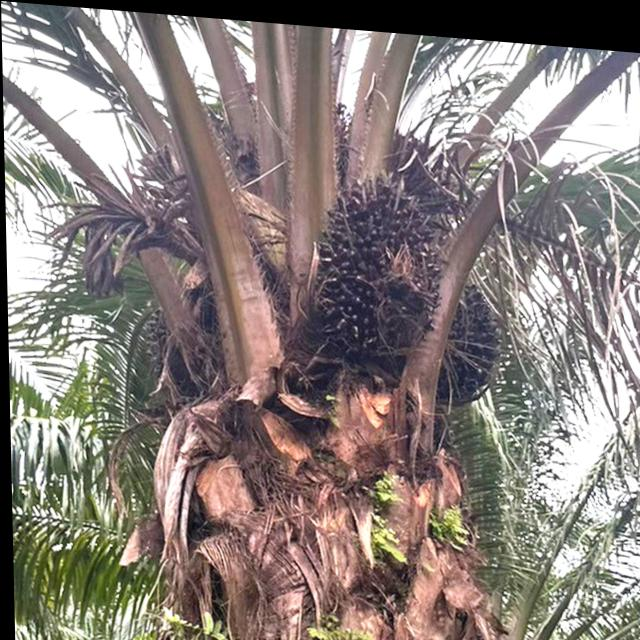ripe: (299, 146, 449, 369)
